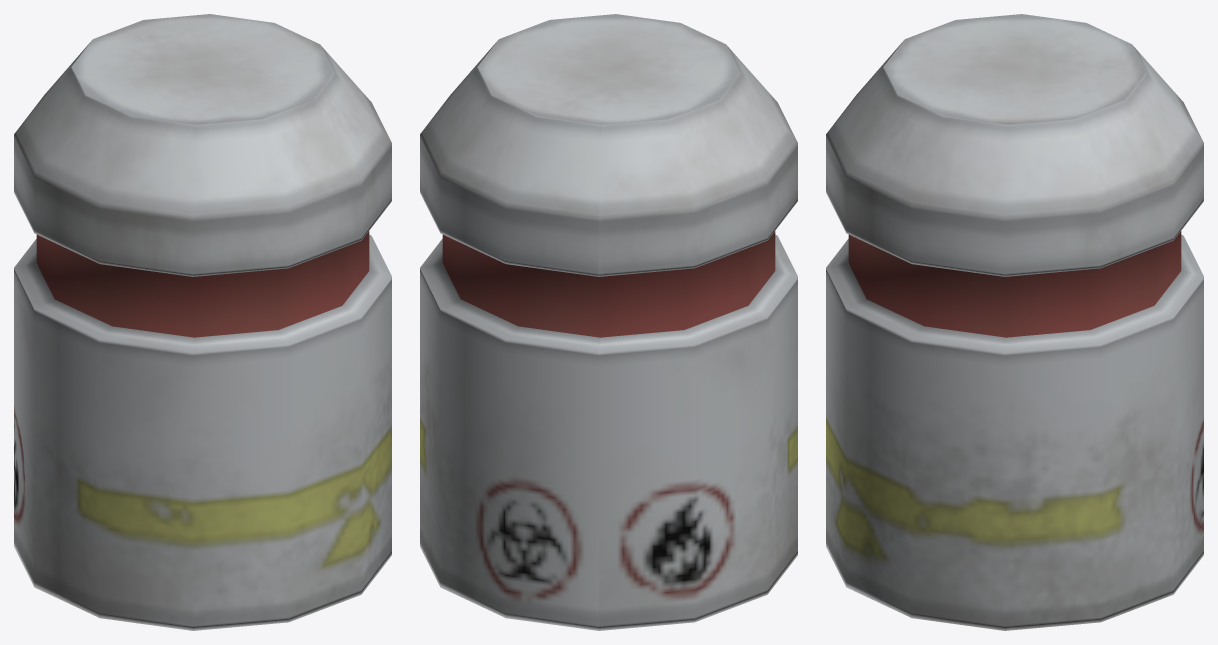
File: Canister_02.fbx
3 views of the same model, side by side, from view 1: azimuth 30°, elevation 25°; view 2: azimuth 150°, elevation 25°; view 3: azimuth 270°, elevation 25° (orthographic).
Visible parts, largest first — view 1: pCylinder50; view 2: pCylinder50; view 3: pCylinder50.
Boxes of the visible parts, x1=… form: pCylinder50: x1=14, y1=14, x2=391, y2=630; pCylinder50: x1=420, y1=14, x2=797, y2=630; pCylinder50: x1=826, y1=14, x2=1203, y2=630.
Size of the model in its own units: 28.8 by 40.61 by 28.8.
